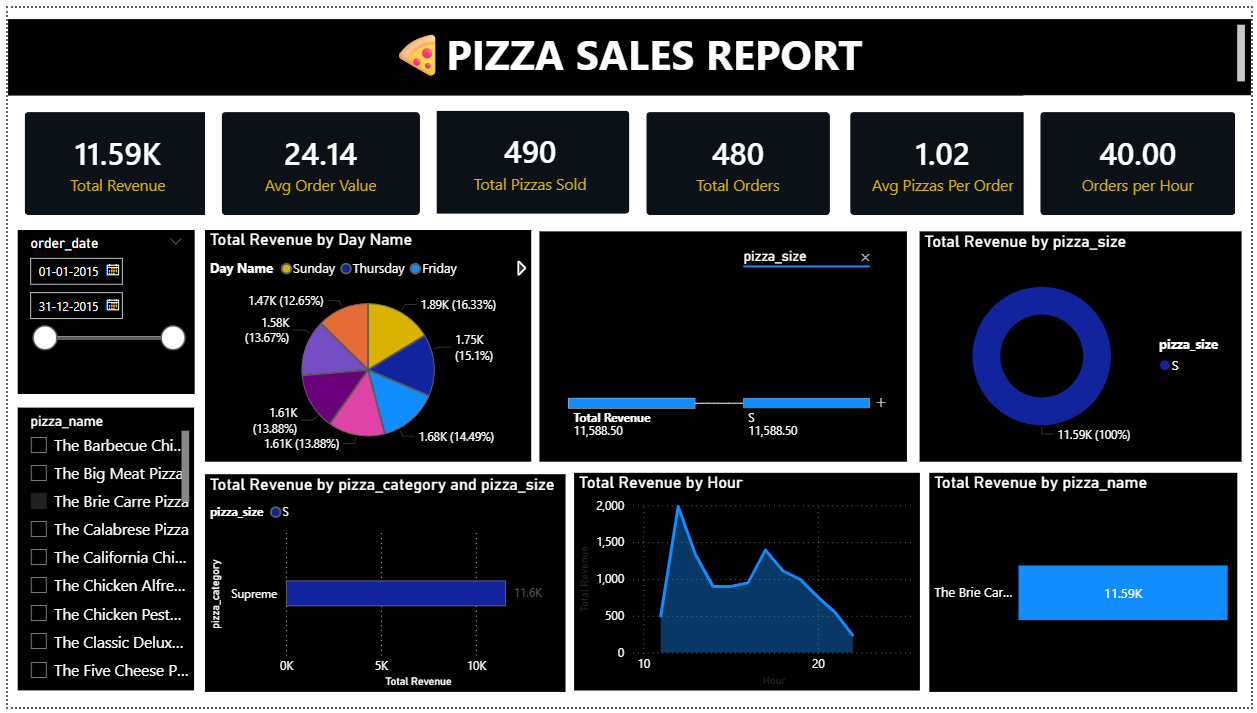

Layout of this report page (visuals, bound fields, positions):
{"tool":"powerbi","page":{"name":"Page 1","canvas":[1280,720],"ordinal":0},"visuals":[{"type":"cardVisual","fields":{"Data":["pizza_sales.Total Revenue"]},"box":[0,90,226.7,140],"z":0},{"type":"cardVisual","fields":{"Data":["pizza_sales.Total Orders"]},"box":[640,90,223.3,140],"z":1000},{"type":"cardVisual","fields":{"Data":["pizza_sales.Total Pizzas Sold"]},"box":[418.3,88.3,238.3,140],"z":2000},{"type":"cardVisual","fields":{"Data":["pizza_sales.Avg Order Value"]},"box":[203.3,90,238.3,140],"z":3000},{"type":"cardVisual","fields":{"Data":["pizza_sales.Avg Pizzas Per Order"]},"box":[850,90,225,140],"z":4000},{"type":"textbox","box":[0,11.7,1280,78.3],"z":5000},{"type":"cardVisual","fields":{"Data":["pizza_sales.Orders per Hour"]},"box":[1045,90,235,140],"z":6000},{"type":"pieChart","fields":{"Y":["pizza_sales.Total Revenue"],"Category":["pizza_sales.Day Name"]},"box":[202.9,228.6,335.7,238.6],"z":7000},{"type":"decompositionTreeVisual","fields":{"Analyze":["pizza_sales.Total Revenue"],"ExplainBy":["pizza_sales.pizza_size","pizza_sales.pizza_category","pizza_sales.Day Name"]},"box":[547.1,230,378.6,237.1],"z":8000},{"type":"barChart","fields":{"Category":["pizza_sales.pizza_category"],"Y":["pizza_sales.Total Revenue"],"Series":["pizza_sales.pizza_size"]},"box":[202.9,480,371.4,224.3],"z":9000},{"type":"areaChart","fields":{"Category":["pizza_sales.Hour"],"Y":["pizza_sales.Total Revenue"]},"box":[582.9,478.6,355.7,224.3],"z":10000},{"type":"donutChart","fields":{"Y":["pizza_sales.Total Revenue"],"Category":["pizza_sales.pizza_size"]},"box":[938.6,230,331.4,237.1],"z":11000},{"type":"funnel","fields":{"Category":["pizza_sales.pizza_name"],"Y":["pizza_sales.Total Revenue"]},"box":[948.6,478.6,317.1,225.7],"z":12000},{"type":"slicer","fields":{"Values":["pizza_sales.order_date"]},"box":[10,228.6,181.4,168.6],"z":13000},{"type":"slicer","fields":{"Values":["pizza_sales.pizza_name"]},"box":[10,411.4,181.4,291.4],"z":14000}]}

Visuals, with their boxes in screenshot pixels (x1, y1, x2, y2), scaled from the page's 1280x720 canvas onto the 1257x713 screenshot:
cardVisual - pizza_sales.Total Revenue: (0,89,223,228)
cardVisual - pizza_sales.Total Orders: (628,89,848,228)
cardVisual - pizza_sales.Total Pizzas Sold: (411,87,645,226)
cardVisual - pizza_sales.Avg Order Value: (200,89,434,228)
cardVisual - pizza_sales.Avg Pizzas Per Order: (835,89,1056,228)
textbox: (0,12,1256,89)
cardVisual - pizza_sales.Orders per Hour: (1026,89,1256,228)
pieChart - pizza_sales.Total Revenue x pizza_sales.Day Name: (199,226,529,463)
decompositionTreeVisual - pizza_sales.Total Revenue x pizza_sales.pizza_size: (537,228,909,463)
barChart - pizza_sales.pizza_category x pizza_sales.Total Revenue: (199,475,564,697)
areaChart - pizza_sales.Hour x pizza_sales.Total Revenue: (572,474,922,696)
donutChart - pizza_sales.Total Revenue x pizza_sales.pizza_size: (922,228,1247,463)
funnel - pizza_sales.pizza_name x pizza_sales.Total Revenue: (932,474,1243,697)
slicer - pizza_sales.order_date: (10,226,188,393)
slicer - pizza_sales.pizza_name: (10,407,188,696)
